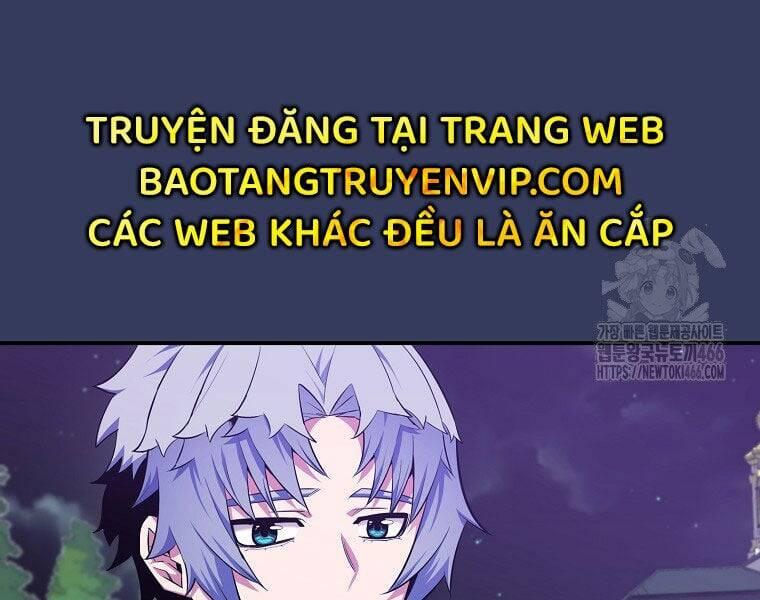quangcao: (86, 102, 677, 250)
